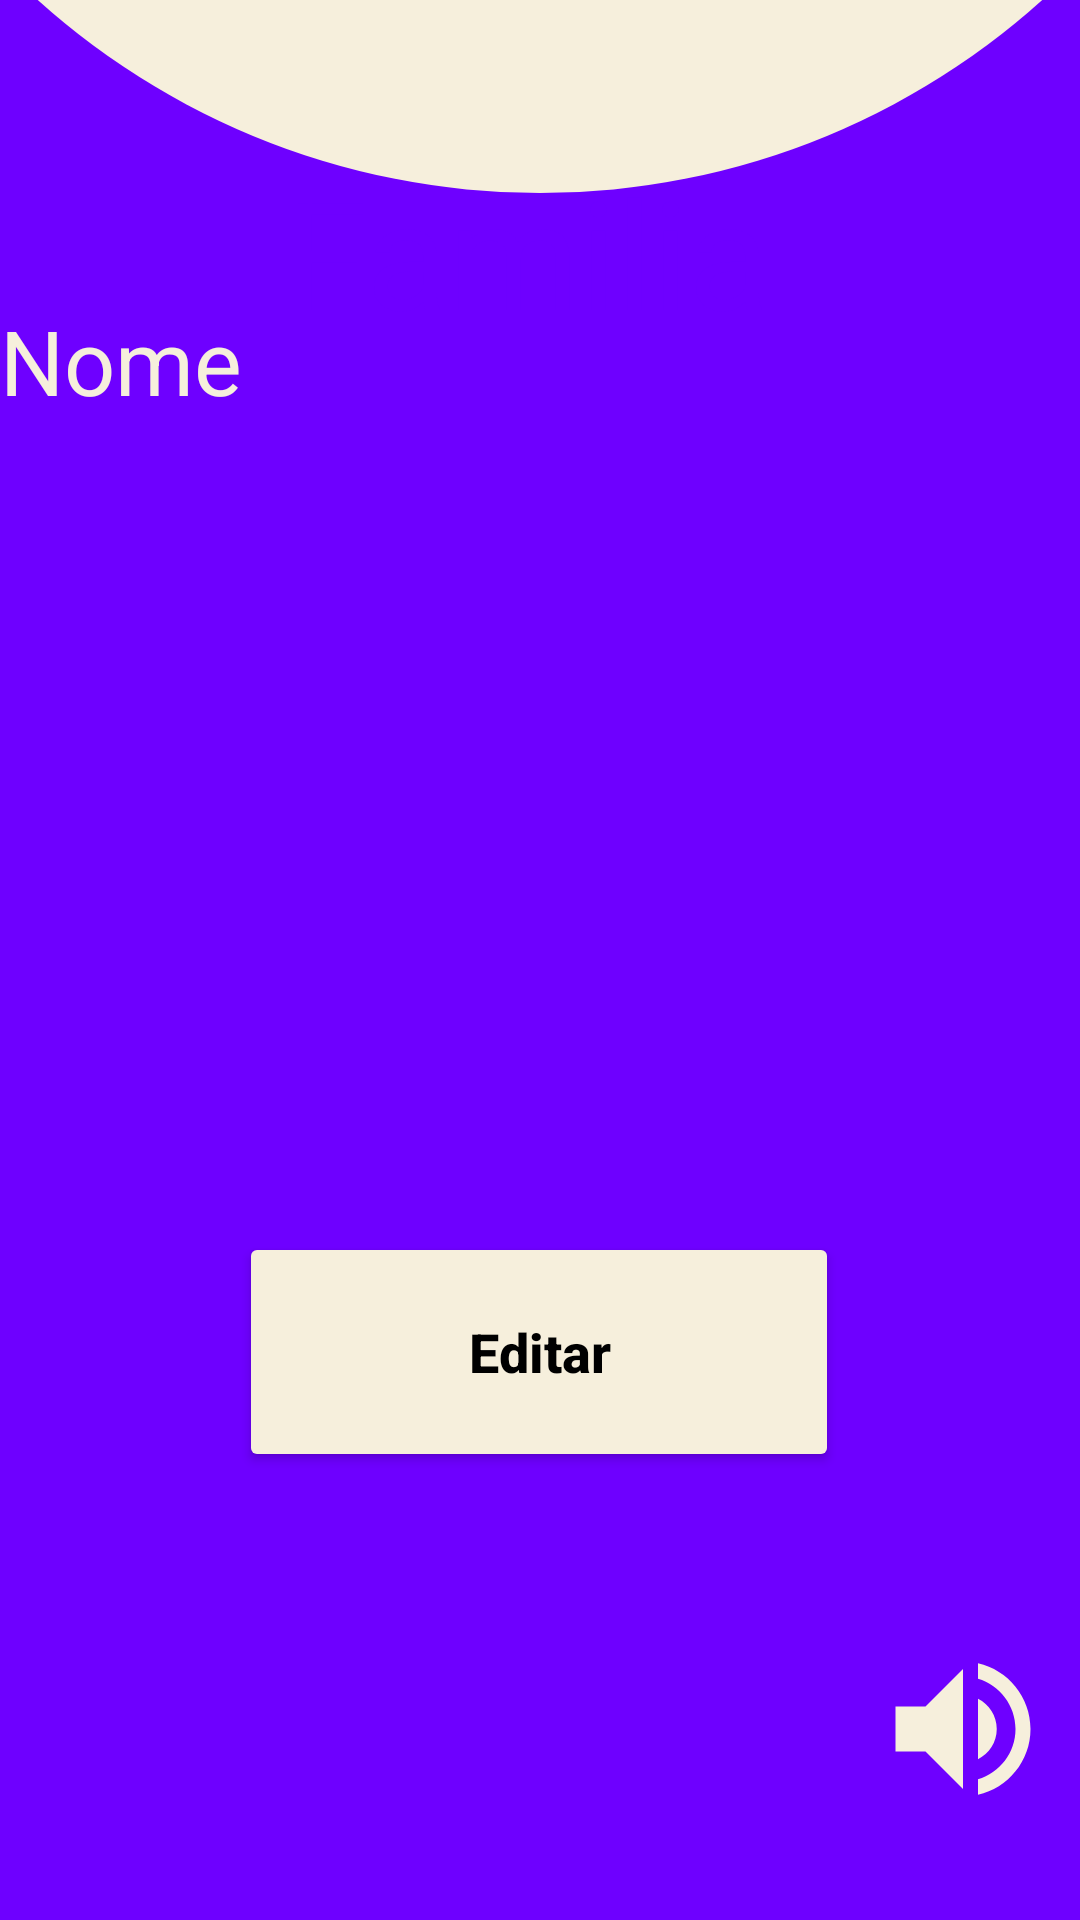

Screen size 1080×1920. Icon name, then its box in pixels as [x1=x1, y1=y1, x2=x2, y2=y2]:
som: [x1=895, y1=1663, x2=1031, y2=1795]
